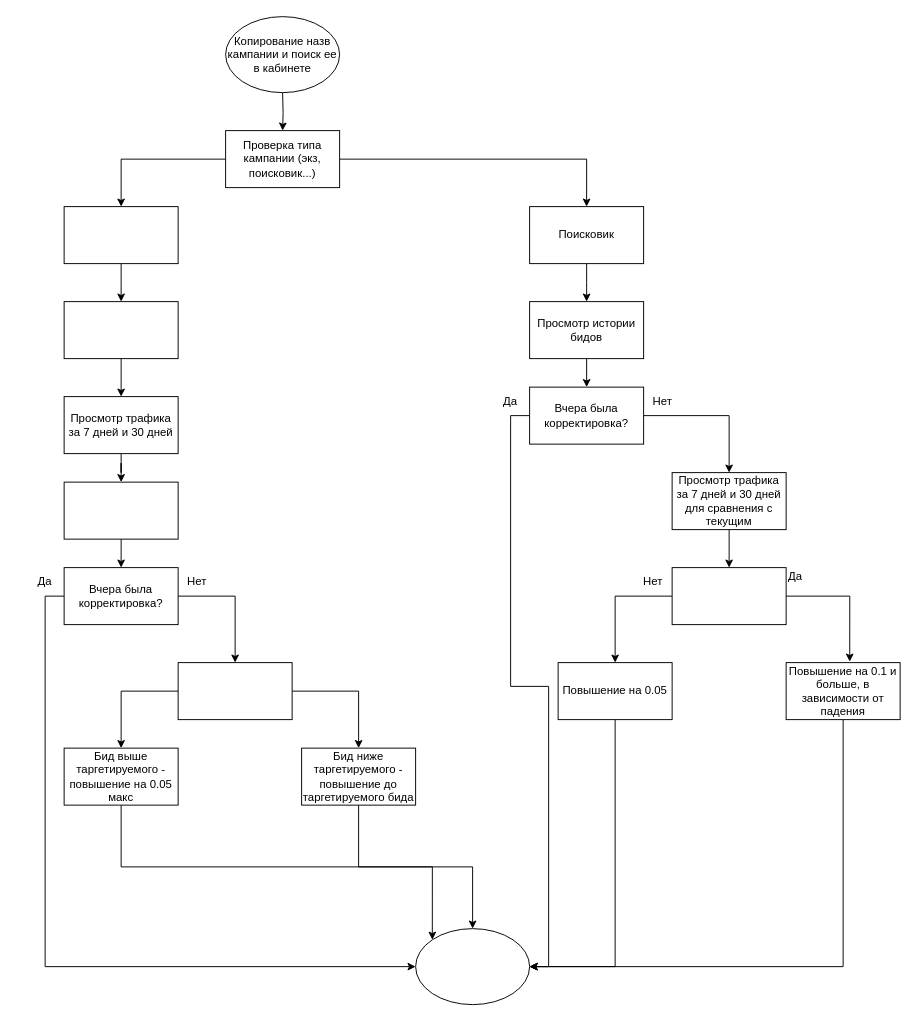
Image size: 917x1021. Some labels were removed from this diagram. The centre of each missing label's shape, as x and y in pixels:
Асин/экзакт: the point at 120,235
В зависимости от текущего бида будет зависеть шаг повышения: the point at 234,691
Есть падение трафика?: the point at 728,596
Нажатие кнопки оптимизации в проге по кампании: the point at 472,966
Просмотр истории бидов и аджастментов: the point at 120,510
Просмотр настройки плейсментов: the point at 120,330
